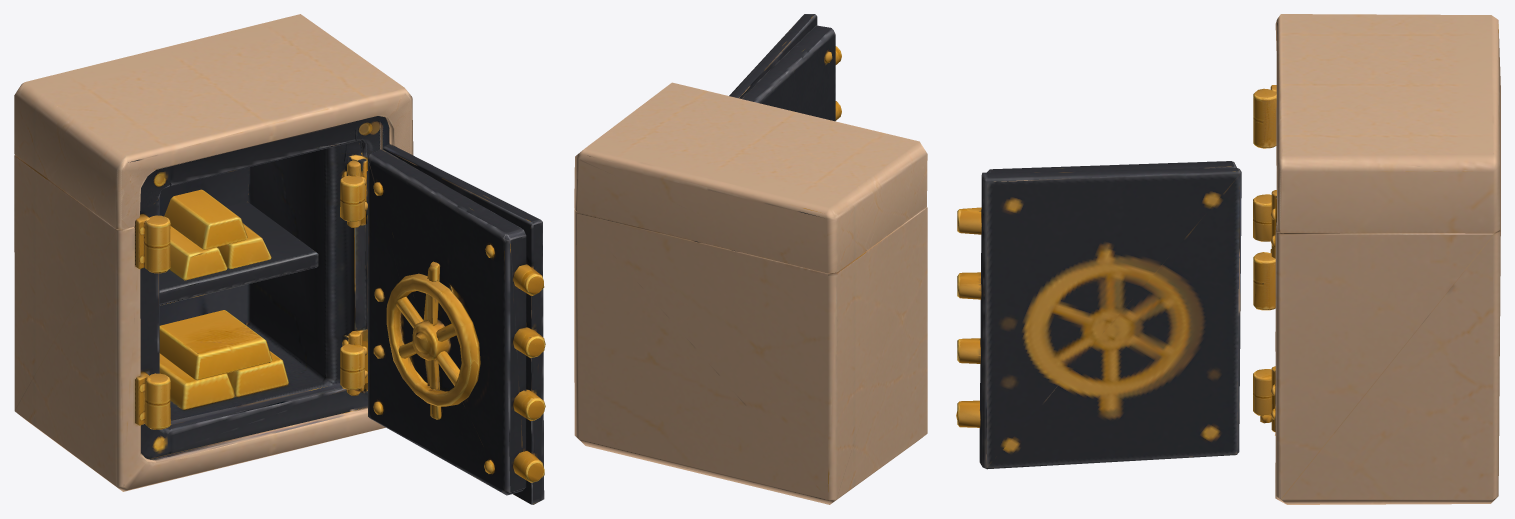
File: safe-box.glb
3 views of the same model, side by side, from view 1: azimuth 30°, elevation 25°; view 2: azimuth 150°, elevation 25°; view 3: azimuth 270°, elevation 25° (orthographic). The views are drawn at different scales.
Bounding box in the file's own units: 0.6309 × 0.6841 × 0.9648.
1 material, 1 textured.
